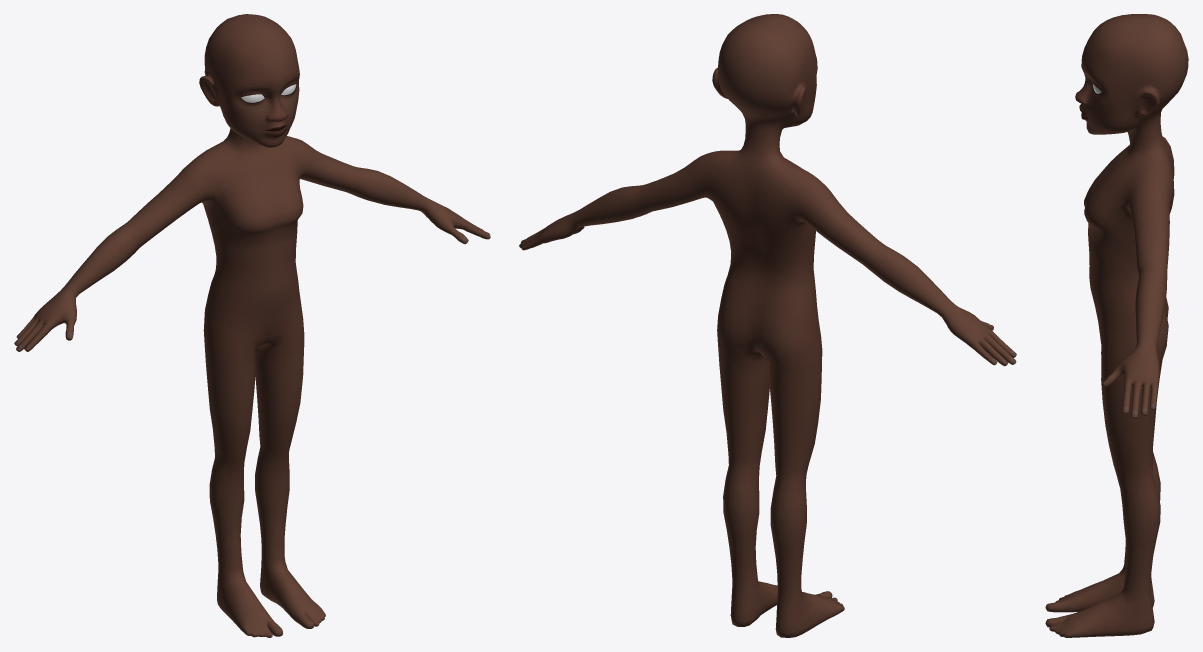
Rendered from frame_0001.glb.
The picture shows the model from 3 angles, left to right: view 1: azimuth 30°, elevation 25°; view 2: azimuth 150°, elevation 25°; view 3: azimuth 270°, elevation 25°; orthographic projection. The views are drawn at different scales.
Visible parts, largest first — view 1: frame_0001_head_geo; view 2: frame_0001_head_geo; view 3: frame_0001_head_geo.
Boxes of the visible parts, x1,y1,x2,y2 form: frame_0001_head_geo: (14,14,490,637); frame_0001_head_geo: (519,14,1016,637); frame_0001_head_geo: (1045,14,1188,637).
Bounding box in the file's own units: 1.28 × 1.5 × 0.3234.
Materials: 4 (2 with a texture image).
